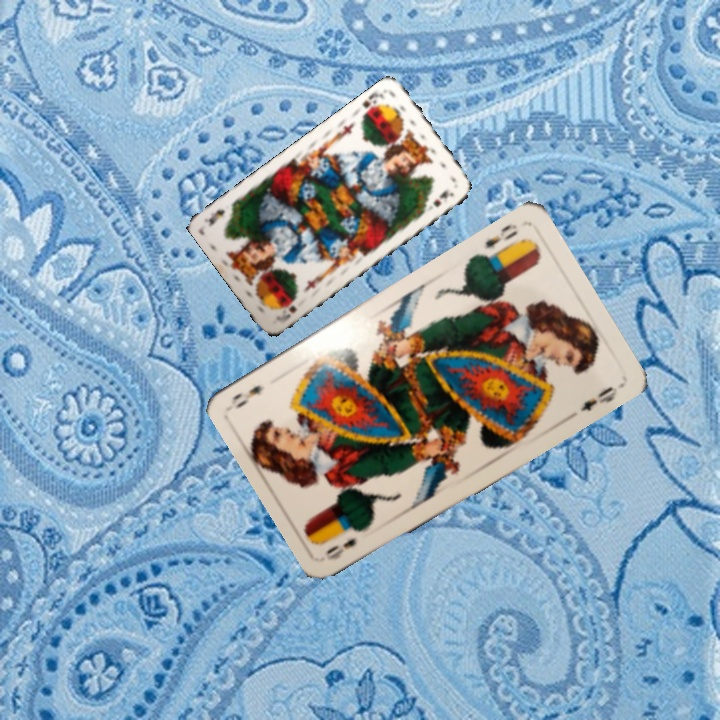EO: (480, 219, 520, 251), (321, 533, 359, 563)
SK: (358, 88, 387, 120), (276, 294, 301, 325)
